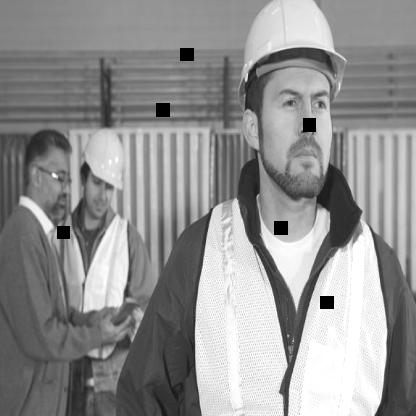head: (22, 127, 72, 221)
helmet: (224, 0, 355, 209), (76, 118, 130, 224)
